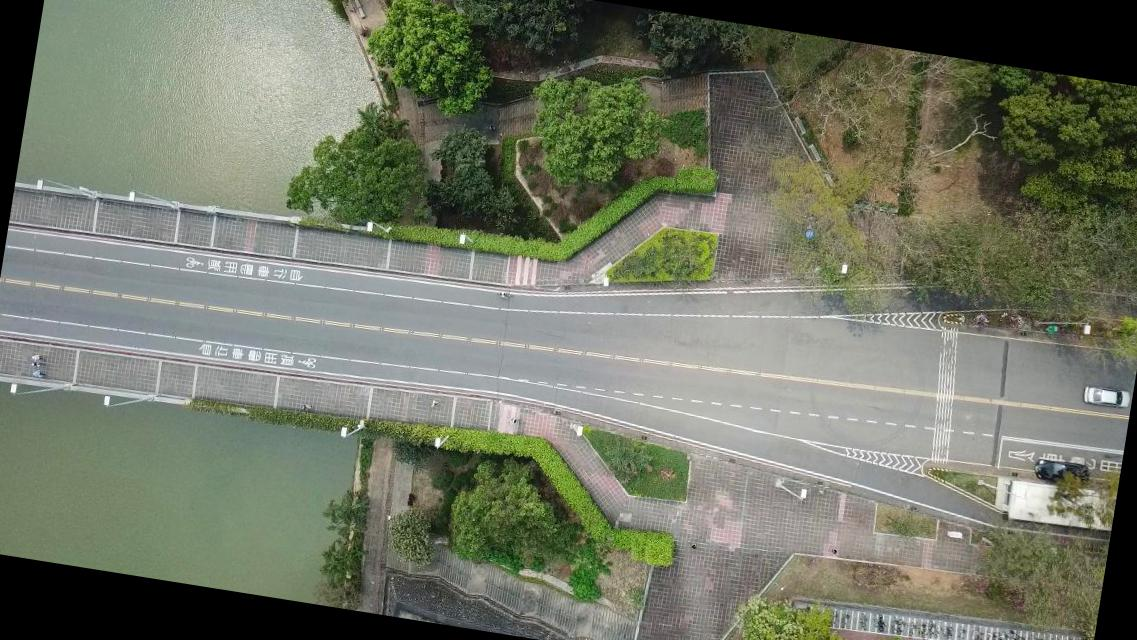vehicle: (1032, 455, 1089, 487), (1080, 382, 1131, 410)
